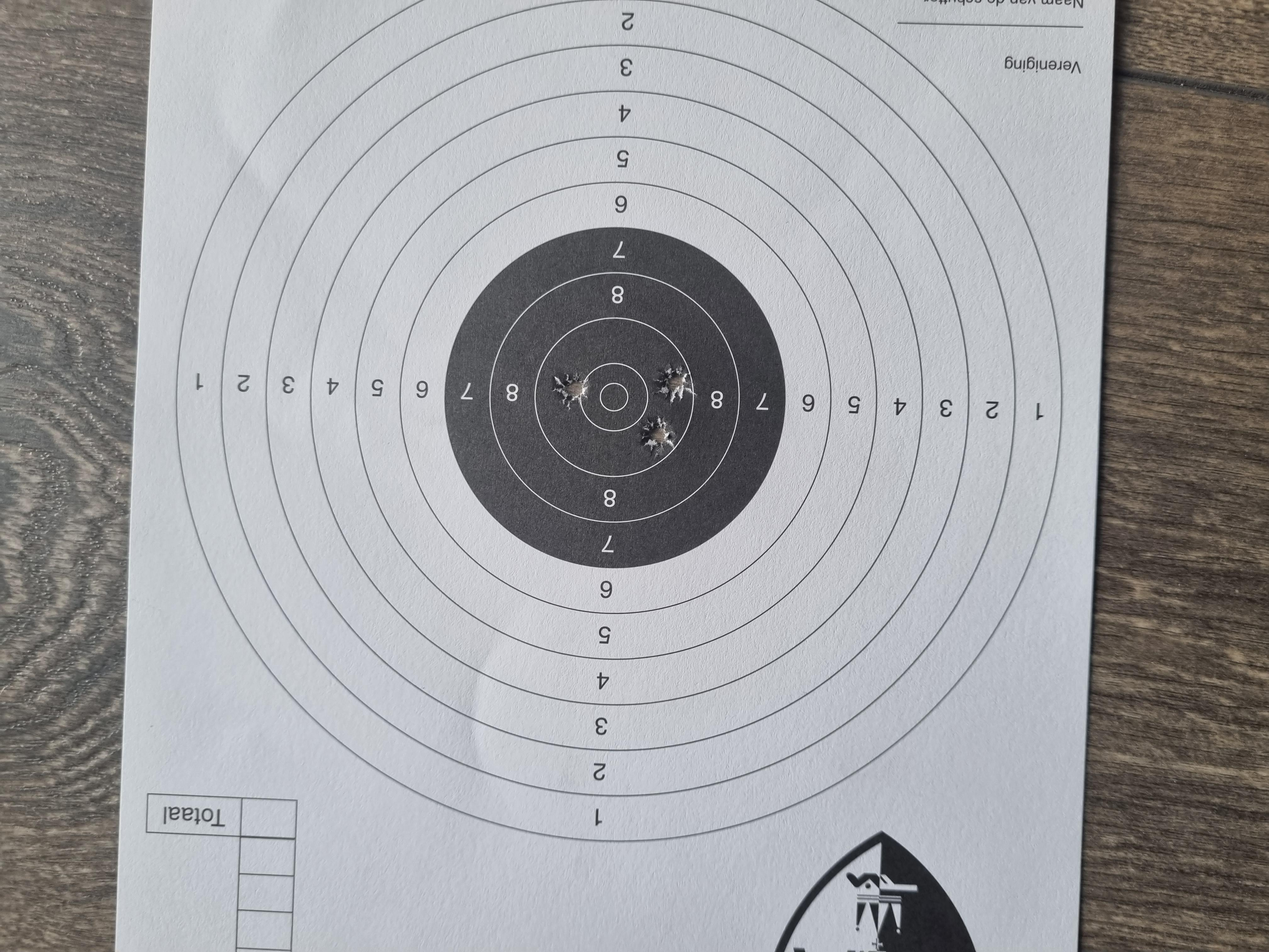hole: (656, 477, 713, 510), (731, 493, 783, 521), (729, 412, 775, 441)
